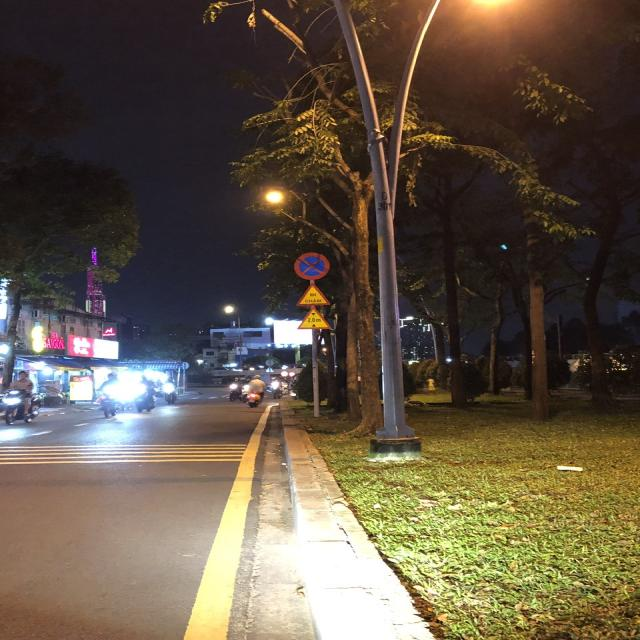Bien bao cam dung xe va do xe: (287, 252, 333, 280)
Bien bao chieu cao tinh khong thuc te: (292, 307, 335, 332)
Bien bao di cham: (293, 282, 332, 306)
